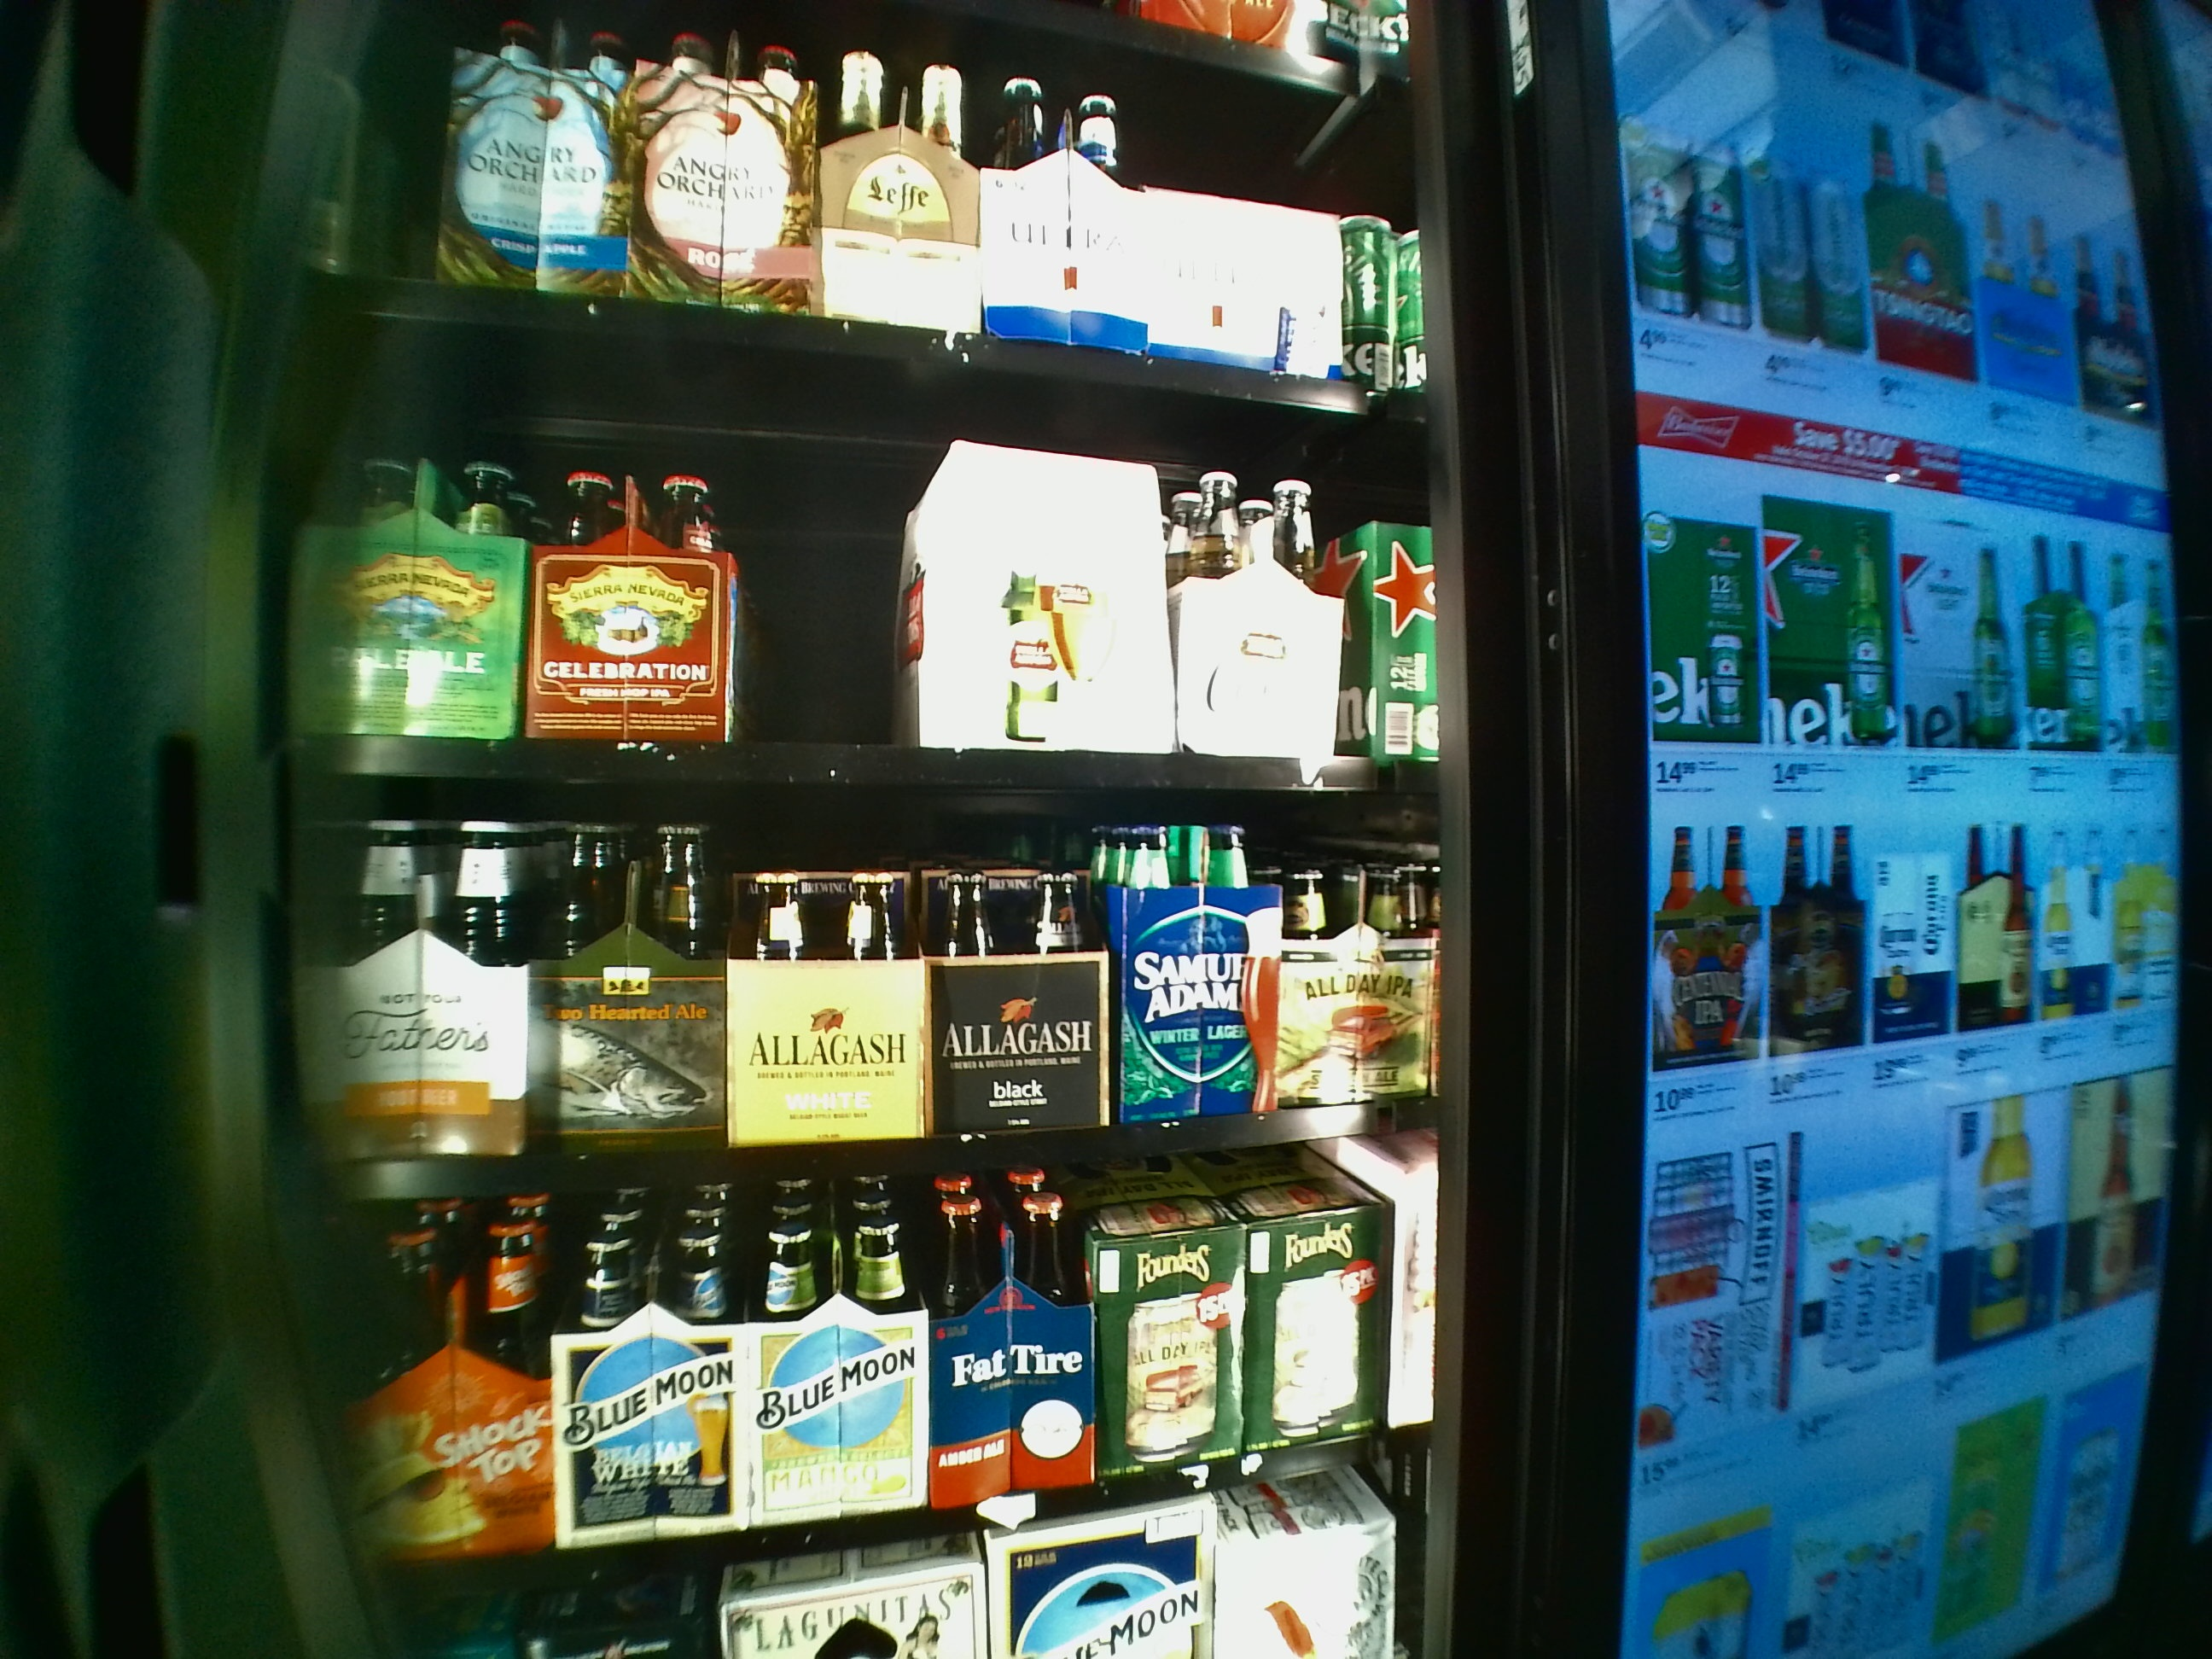shelf: (286, 322, 1440, 791), (289, 803, 1440, 1208)
